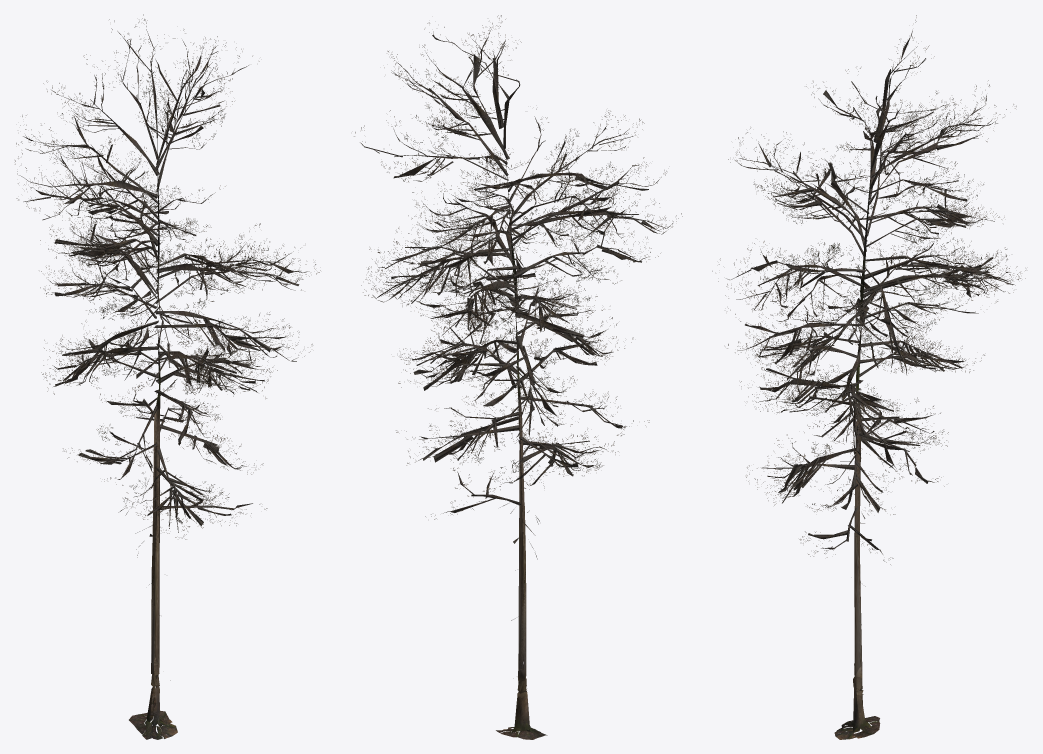
Rendered from pine-web.glb.
3 renders of one model, left to right at view 1: azimuth 30°, elevation 25°; view 2: azimuth 150°, elevation 25°; view 3: azimuth 270°, elevation 25°, orthographic. The views are drawn at different scales.
Parts seen in each view (by area): view 1: pine_tree_01_a_LOD0; view 2: pine_tree_01_a_LOD0; view 3: pine_tree_01_a_LOD0.
Boxes of the visible parts, x1=… form: pine_tree_01_a_LOD0: x1=15, y1=14, x2=320, y2=739; pine_tree_01_a_LOD0: x1=354, y1=15, x2=682, y2=739; pine_tree_01_a_LOD0: x1=712, y1=15, x2=1025, y2=739.
Size of the model in its own units: 7.48 by 20.37 by 8.22.
Materials: 4 (4 with a texture image).
